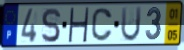3: (145, 6, 163, 43)
4: (20, 7, 38, 44)
C: (90, 6, 114, 42)
H: (67, 7, 90, 44)
S: (40, 7, 62, 44)
U: (120, 5, 143, 43)
